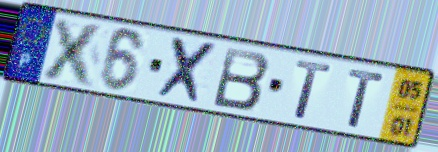6: (96, 26, 150, 94)
B: (210, 45, 272, 113)
T: (291, 58, 335, 123), (345, 66, 388, 131)
X: (38, 14, 110, 90), (153, 34, 223, 108)
